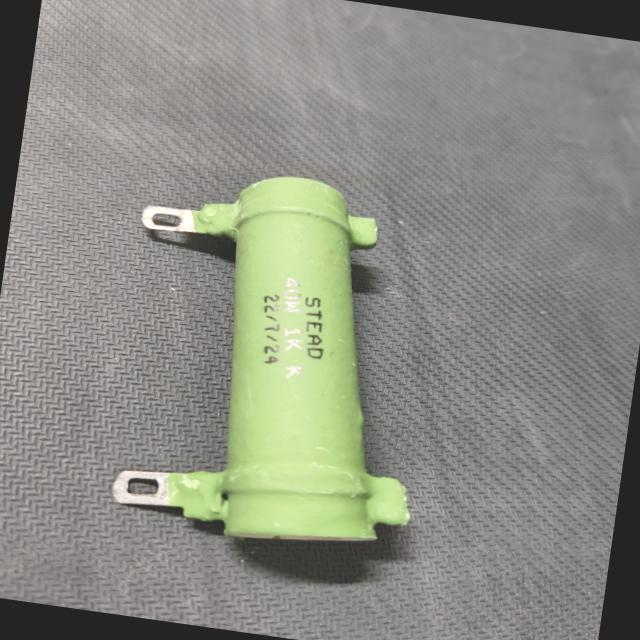resistor: (86, 144, 482, 586)
